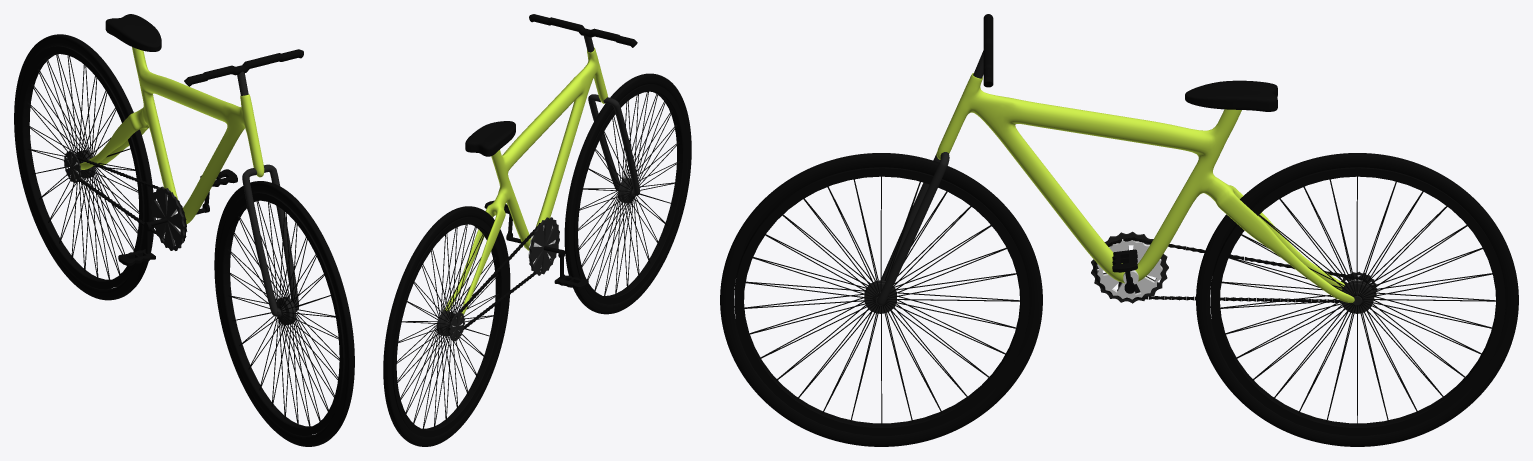
The model's file is Bicycle.FBX.
3 views of the same model, side by side, from view 1: azimuth 30°, elevation 25°; view 2: azimuth 150°, elevation 25°; view 3: azimuth 270°, elevation 25° (orthographic). The views are drawn at different scales.
Visible parts, largest first — view 1: front wheel, rear wheel, Body, Star001, saddle, Line002, handlebar, Line001, Pedal, Pedal001, Star002, Cylinder001; view 2: front wheel, rear wheel, Body, Star001, saddle, handlebar, Line002, Line001, Pedal, Star002; view 3: front wheel, rear wheel, Body, saddle, Line001, Star004, Star001, handlebar.
Part boxes in pixels (<box>): front wheel: <box>214,181,354,446</box>; rear wheel: <box>14,34,154,300</box>; Body: <box>80,47,264,223</box>; Star001: <box>150,186,185,250</box>; saddle: <box>105,14,161,51</box>; Line002: <box>242,168,279,316</box>; handlebar: <box>184,49,303,86</box>; Line001: <box>263,164,298,310</box>; Pedal: <box>118,217,167,266</box>; Pedal001: <box>196,169,237,214</box>; Star002: <box>64,150,81,183</box>; Cylinder001: <box>277,296,295,325</box>; front wheel: <box>564,73,691,314</box>; rear wheel: <box>383,206,510,446</box>; Body: <box>444,47,607,316</box>; Star001: <box>528,217,559,275</box>; saddle: <box>465,121,515,156</box>; handlebar: <box>529,14,637,47</box>; Line002: <box>603,97,640,195</box>; Line001: <box>588,94,619,190</box>; Pedal: <box>543,246,588,289</box>; Star002: <box>449,312,464,341</box>; front wheel: <box>720,153,1042,446</box>; rear wheel: <box>1196,153,1518,446</box>; Body: <box>936,73,1354,302</box>; saddle: <box>1185,80,1277,111</box>; Line001: <box>876,152,949,305</box>; Star004: <box>1097,239,1162,299</box>; Star001: <box>1091,231,1168,303</box>; handlebar: <box>983,14,993,87</box>.
Bounding box in the file's own units: 21.57 × 57.67 × 103.
